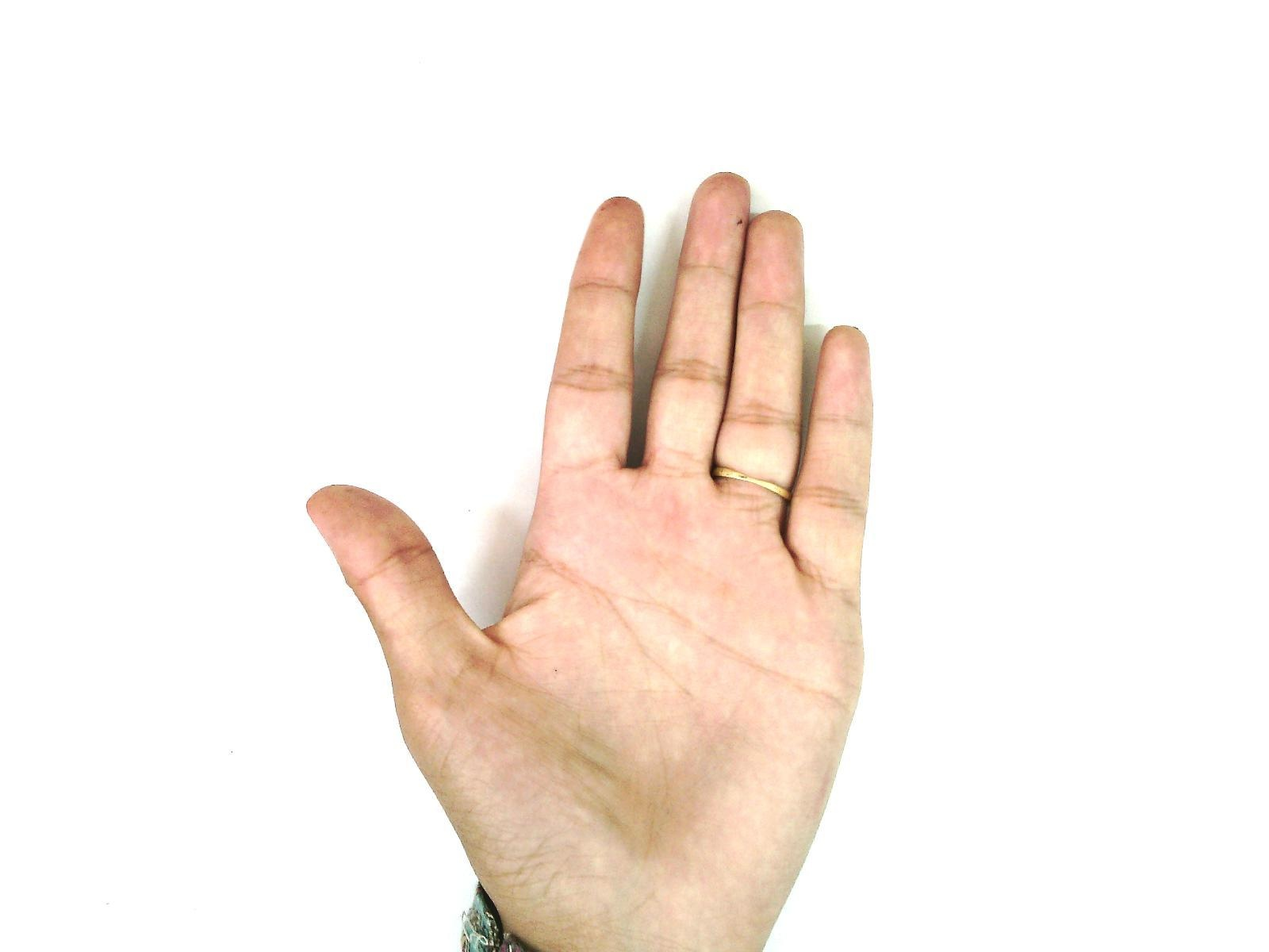open_palm: (305, 171, 878, 951)
